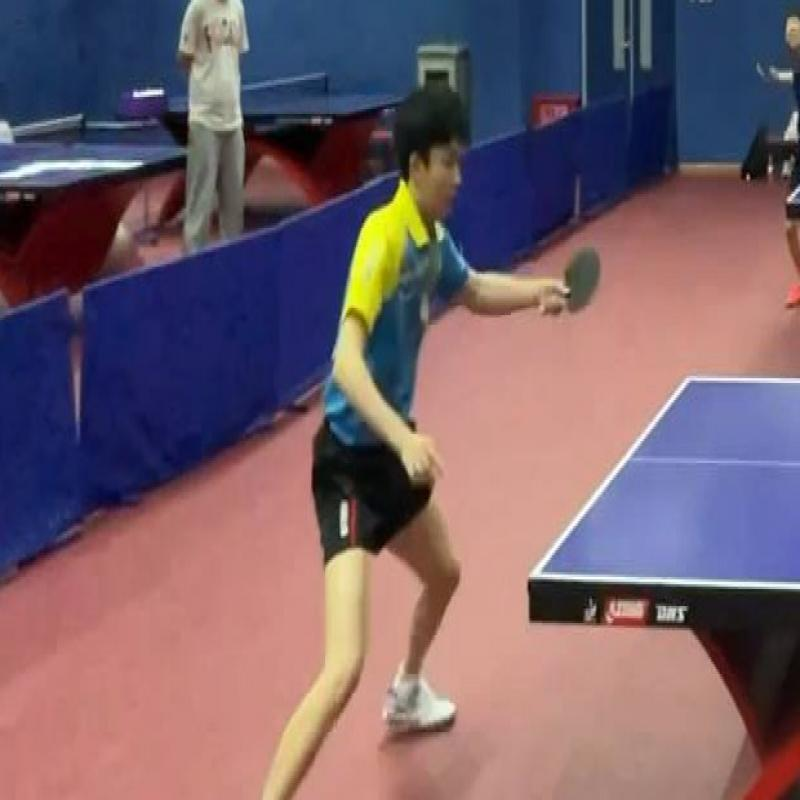bats: (548, 238, 612, 330)
